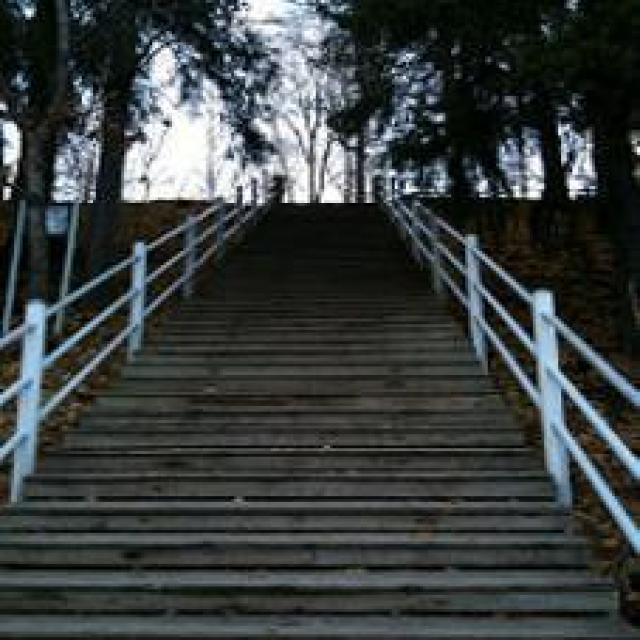upstair: (18, 286, 562, 621)
